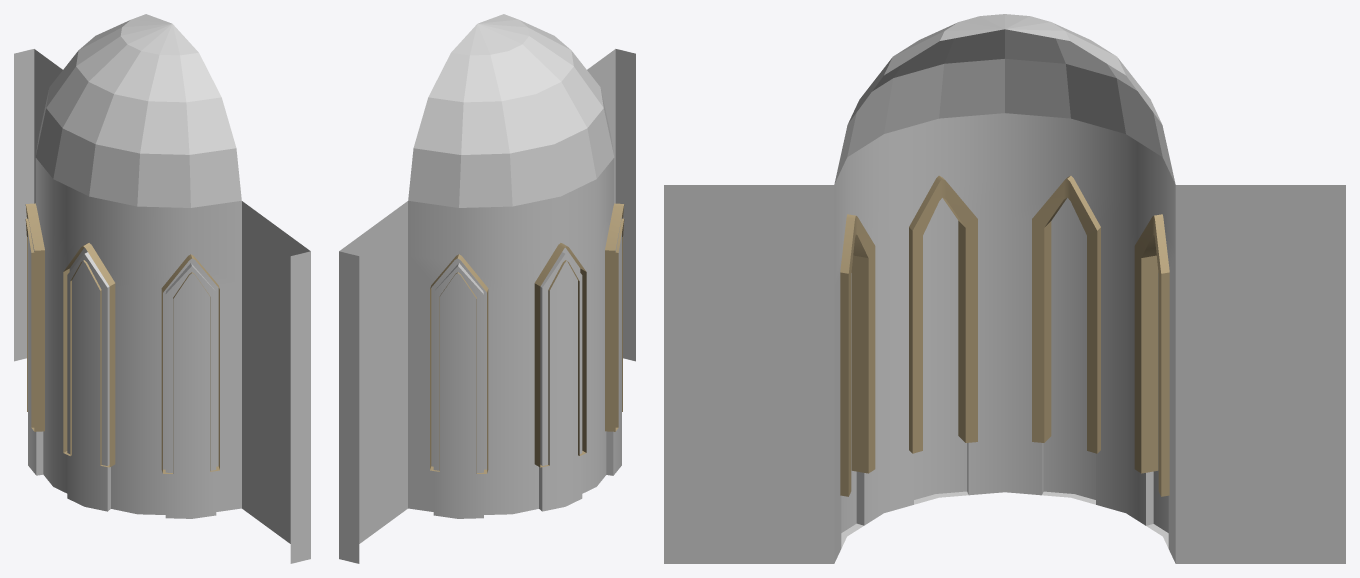
The model's file is Wall_test.fbx.
The picture shows the model from 3 angles, left to right: view 1: azimuth 30°, elevation 25°; view 2: azimuth 150°, elevation 25°; view 3: azimuth 270°, elevation 25°; orthographic projection. The views are drawn at different scales.
Visible parts, largest first — view 1: Object003, Object019, Object015; view 2: Object003, Object019, Object015; view 3: Object003, Object015, Object019.
Boxes of the visible parts, <box> form: Object003: <box>14,49,310,563</box>; Object019: <box>35,14,241,207</box>; Object015: <box>25,203,219,473</box>; Object003: <box>339,49,635,563</box>; Object019: <box>408,14,614,207</box>; Object015: <box>430,203,624,473</box>; Object003: <box>664,113,1345,563</box>; Object015: <box>840,175,1169,496</box>; Object019: <box>834,14,1175,183</box>.
Size of the model in its own units: 4.81 by 16.15 by 18.66.
